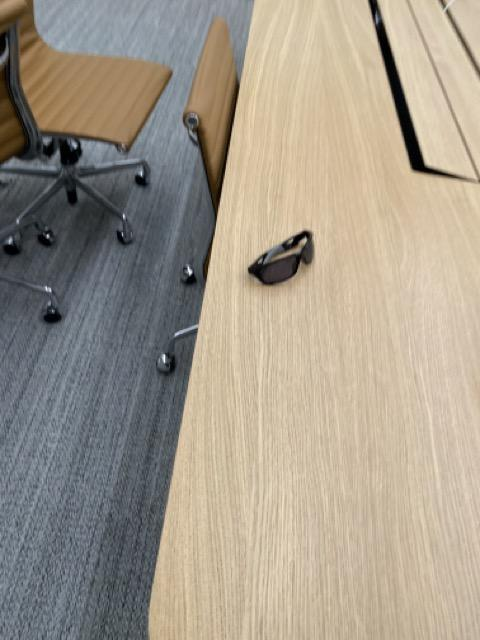Sunglasses: (247, 228, 316, 288)
